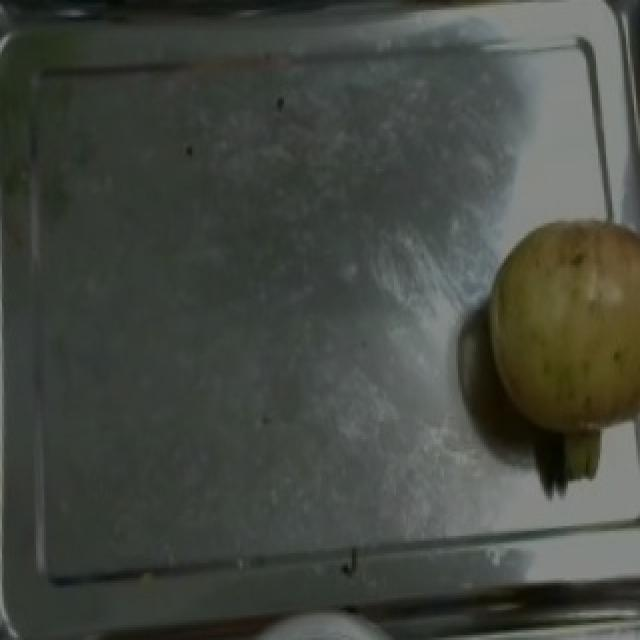fruit: (464, 196, 640, 439)
